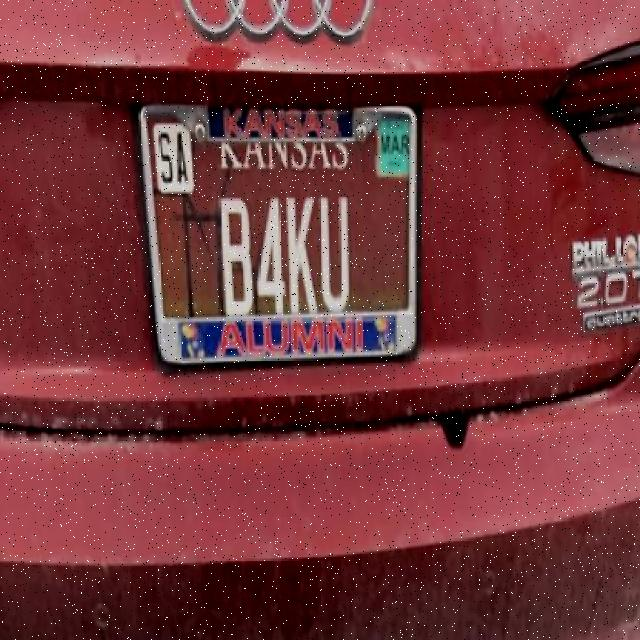licenseplate: (140, 109, 415, 366)
